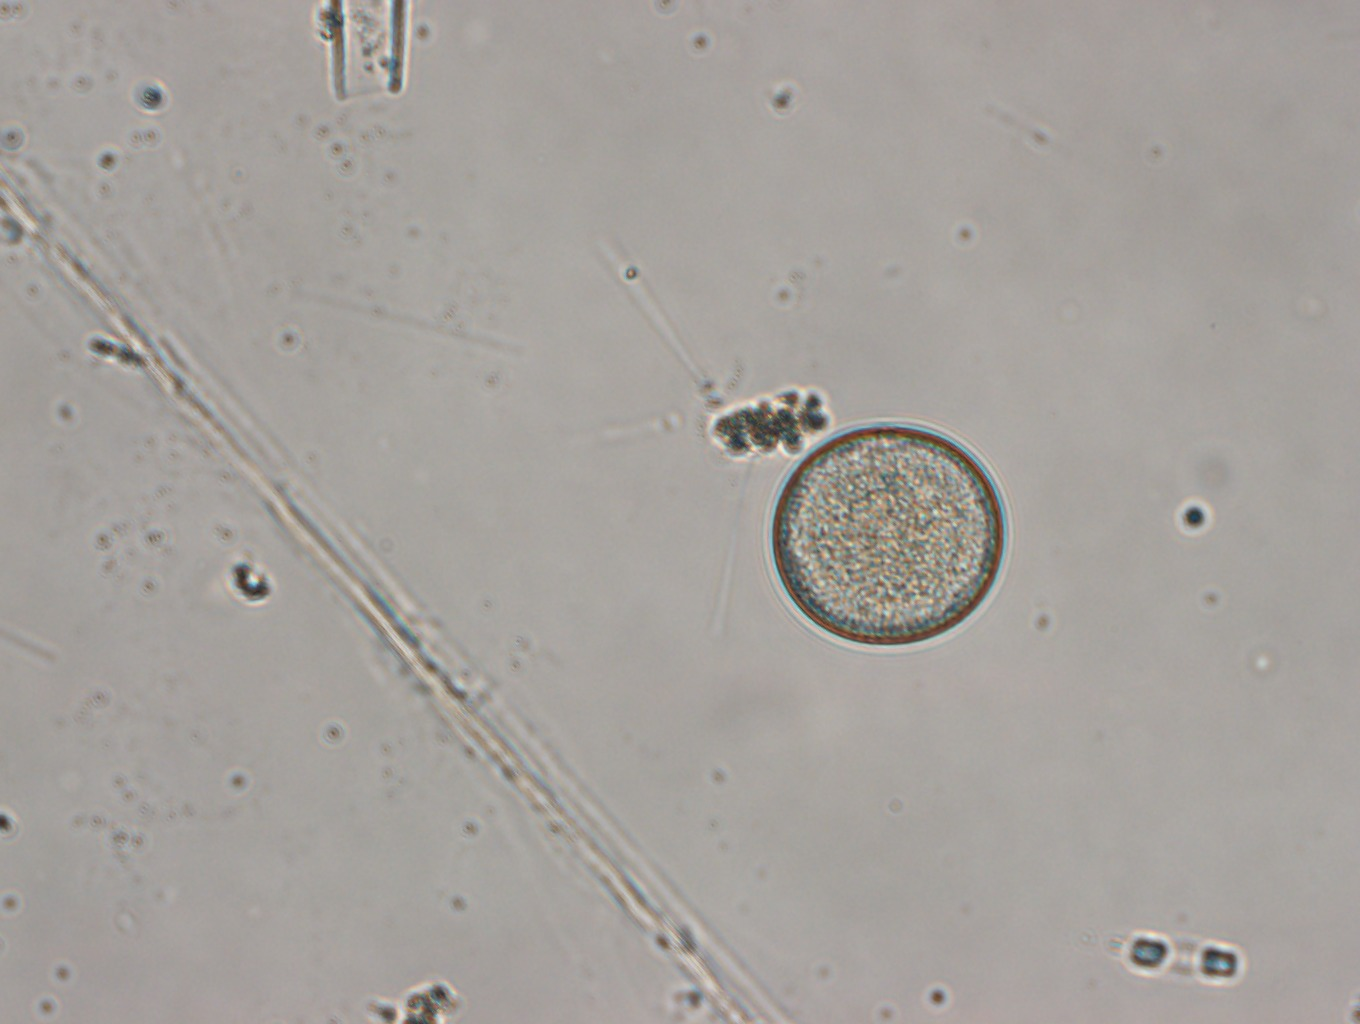coscinodiscus: (767, 423, 1006, 648)
